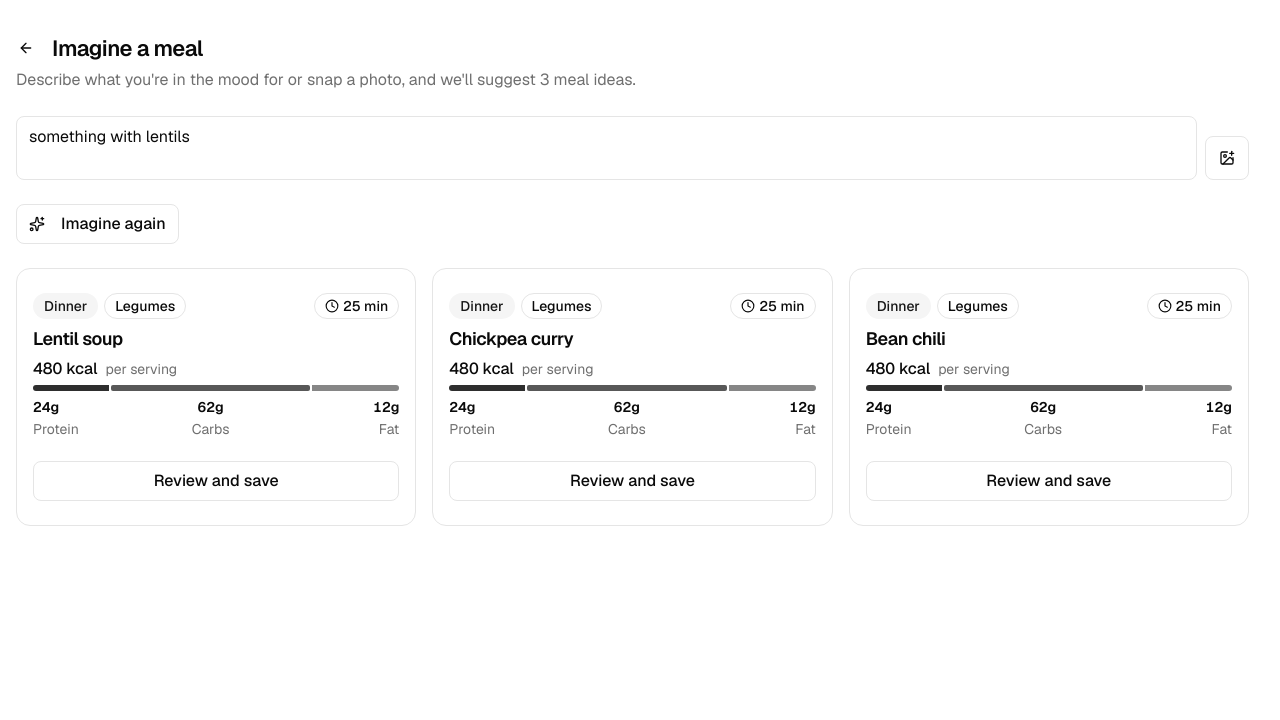
Test: ImagineClient saved ideas (HON-1270) › returns focus to "Review and save" when the dialog closes without a save
Click the button "Review and save" below "Chickpea curry": click(632, 481) [449,461,816,501]
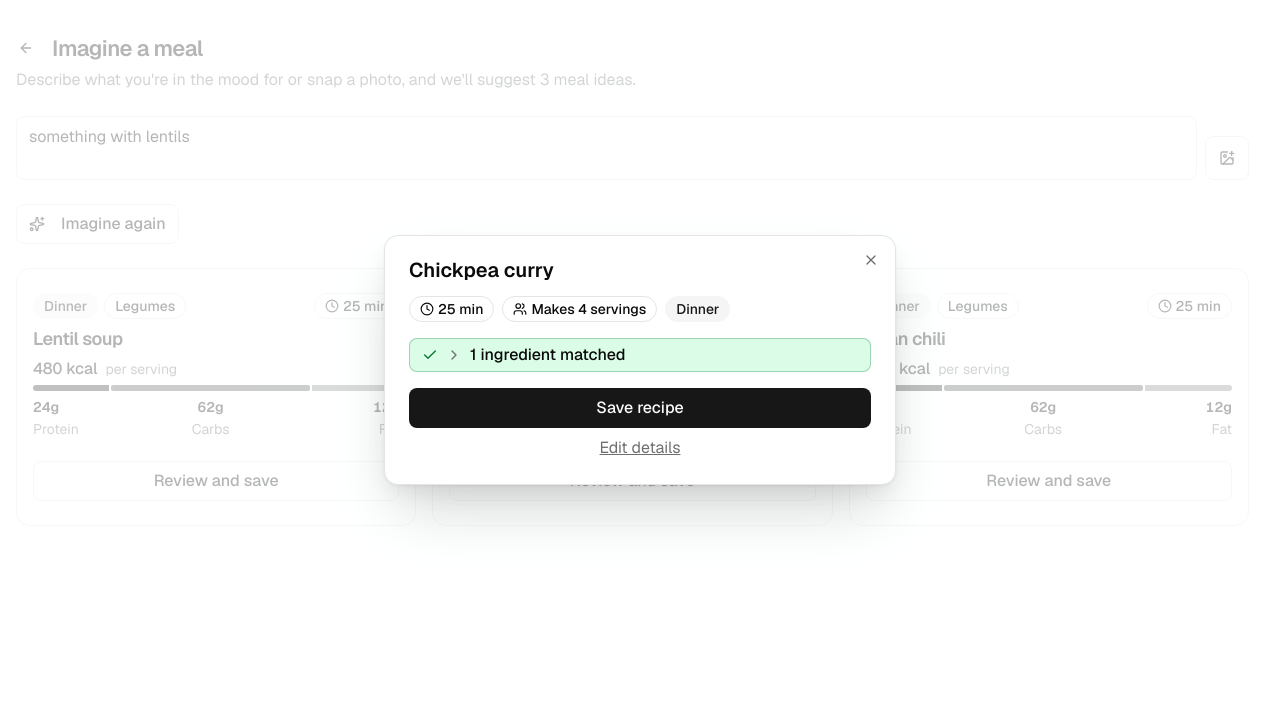
Press Escape in the dialog, box [384,235,896,485]
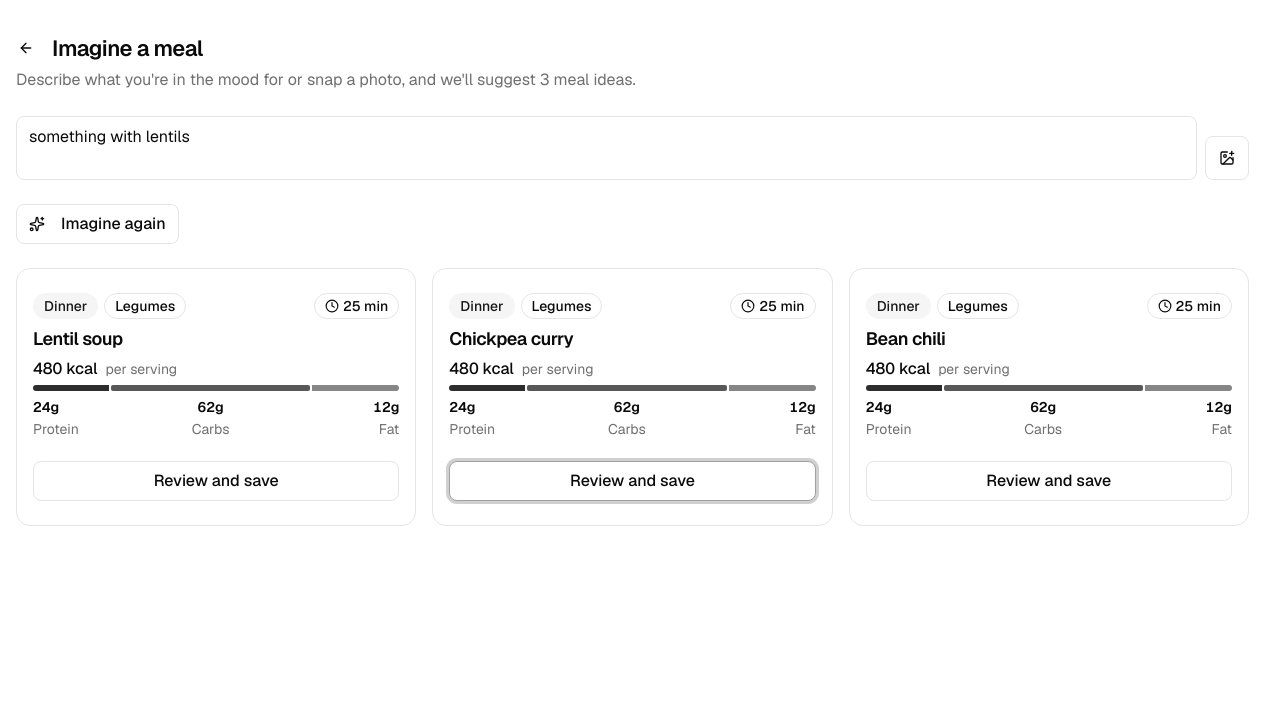
Check: the dialog is gone
